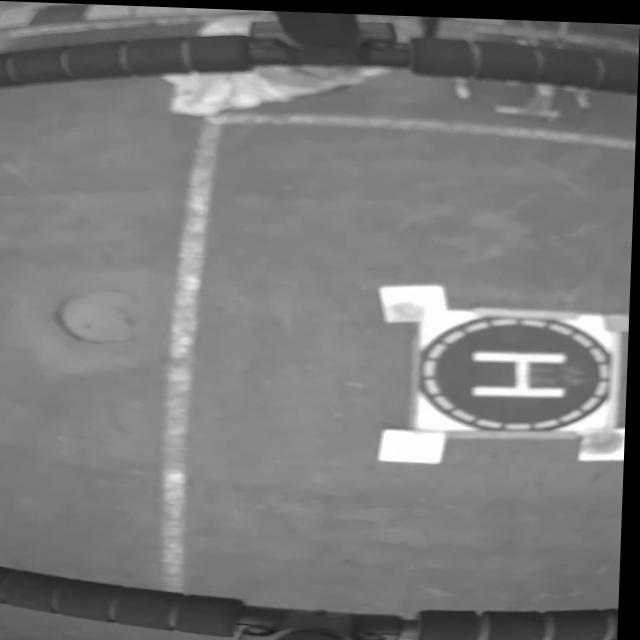Helipad: (474, 345, 570, 394)
